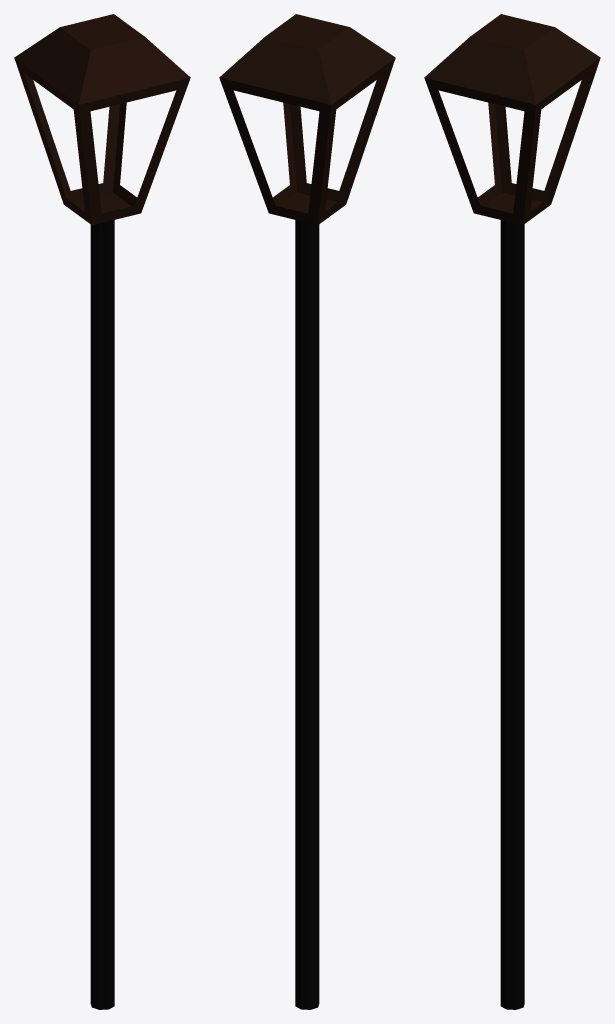
File: streetlamp.obj
3 renders of one model, left to right at view 1: azimuth 30°, elevation 25°; view 2: azimuth 150°, elevation 25°; view 3: azimuth 330°, elevation 25°, orthographic.
Visible parts, largest first — view 1: Stup, Lampa; view 2: Stup, Lampa; view 3: Stup, Lampa.
Boxes of the visible parts, x1=… form: Stup: x1=90, y1=203, x2=114, y2=1009; Lampa: x1=14, y1=14, x2=190, y2=225; Stup: x1=295, y1=203, x2=319, y2=1009; Lampa: x1=219, y1=14, x2=395, y2=225; Stup: x1=500, y1=220, x2=524, y2=1009; Lampa: x1=424, y1=14, x2=600, y2=225.
Bounding box in the file's own units: 1.61 × 13.38 × 1.61.
